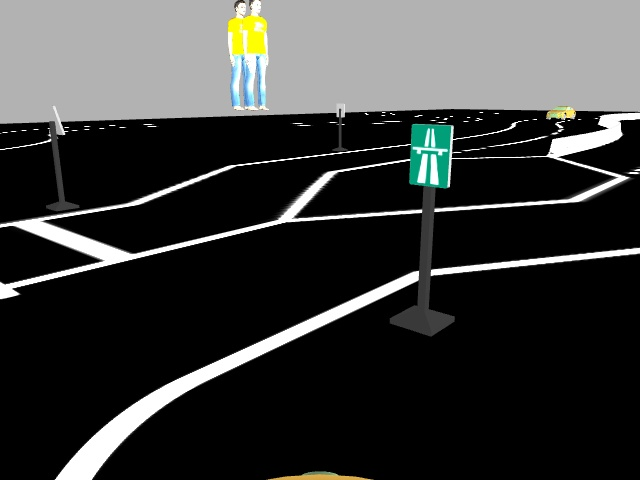HighwayEntrance: (405, 121, 454, 188)
